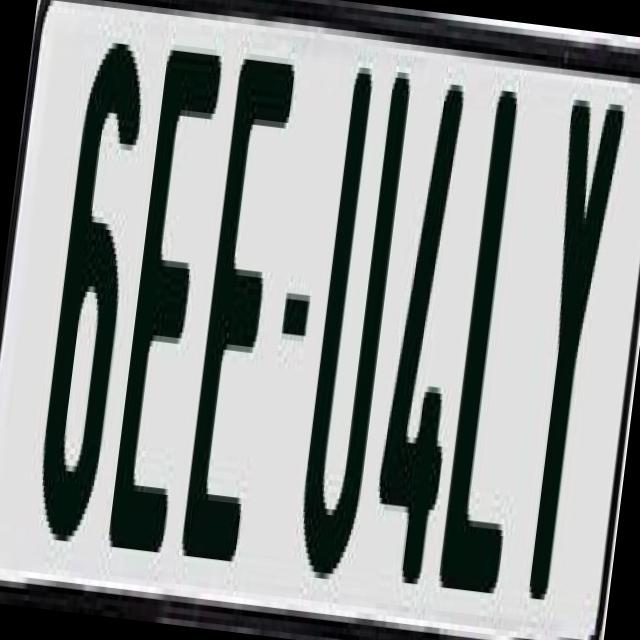4: (365, 81, 497, 604)
6: (33, 28, 158, 544)
E: (101, 37, 223, 564), (178, 40, 297, 568)
L: (434, 78, 562, 612)
U: (293, 55, 422, 577)
Y: (508, 87, 632, 597)
